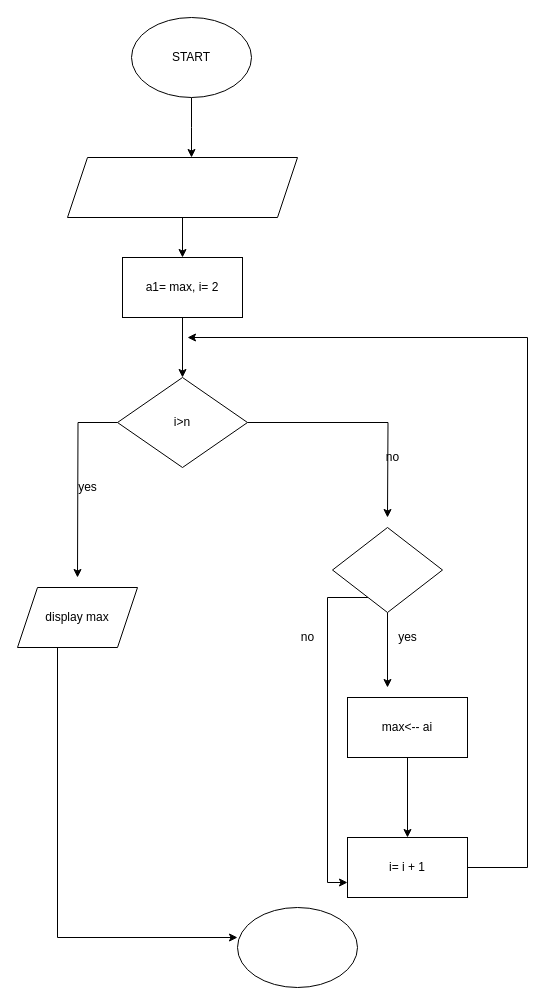
Image size: 553x1005. Some labels were removed from this diagram. The centre of each missing label's shape, as x and y in pixels:
ai> max: (x=387, y=569)
input N là dãy số từ a1, a2, ...an: (x=182, y=187)
stop: (x=297, y=947)
